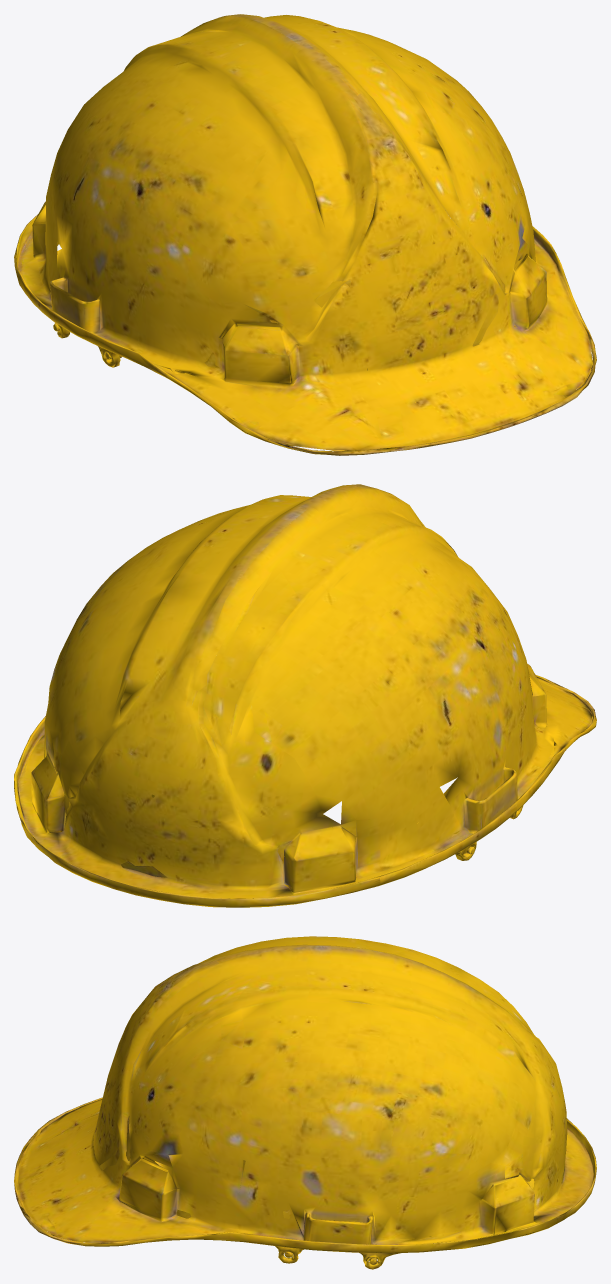
File: hardhat.glb
3 renders of one model, top to bottom at view 1: azimuth 30°, elevation 25°; view 2: azimuth 150°, elevation 25°; view 3: azimuth 270°, elevation 25°, orthographic. The views are drawn at different scales.
Parts seen in each view (by area): view 1: hardhat; view 2: hardhat; view 3: hardhat.
Boxes of the visible parts, x1=… form: hardhat: x1=14, y1=14, x2=596, y2=455; hardhat: x1=14, y1=484, x2=596, y2=907; hardhat: x1=14, y1=936, x2=596, y2=1269.
Size of the model in its own units: 0.4 by 0.2327 by 0.5208.
Materials: 1 (1 with a texture image).
